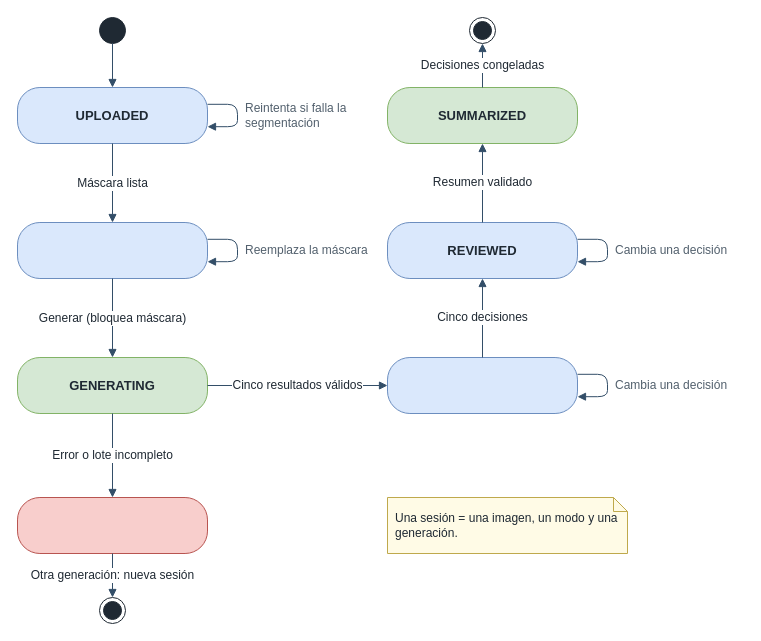
Image size: 761x641. Some labels were removed from this diagram. The box of each missing label's shape, as (x1, y1, x2, y2) in pixels:
FAILED: (16, 496, 208, 554)
READY_FOR_REVIEW: (386, 356, 578, 414)
SEGMENTED: (16, 222, 208, 278)
